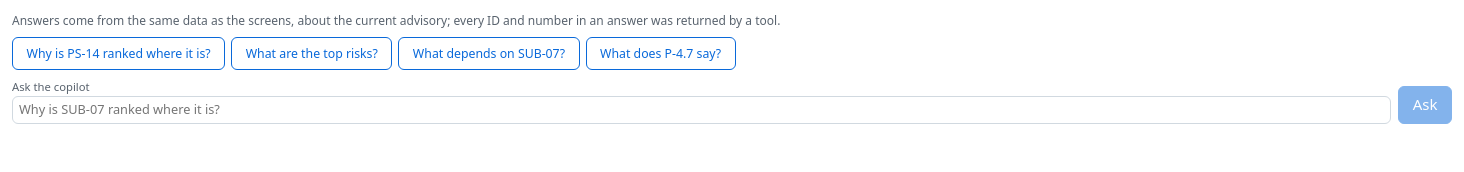
Scenario: an error event in the stream shows as an error
Click the button "What are the top risks?".
click(312, 54)  # box [231, 37, 392, 70]
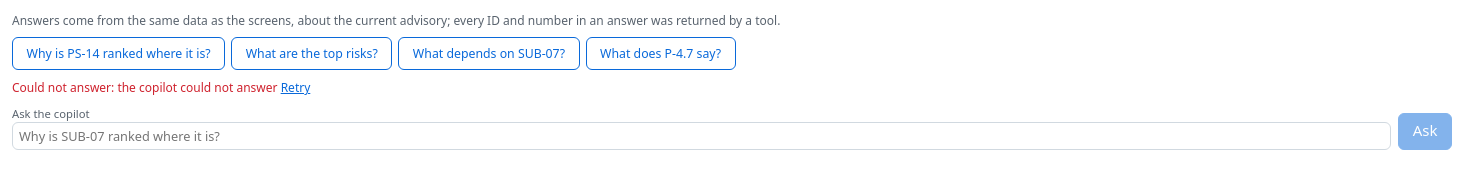
Check: the message shows "the copilot could not answer", box [117, 79, 278, 96]
